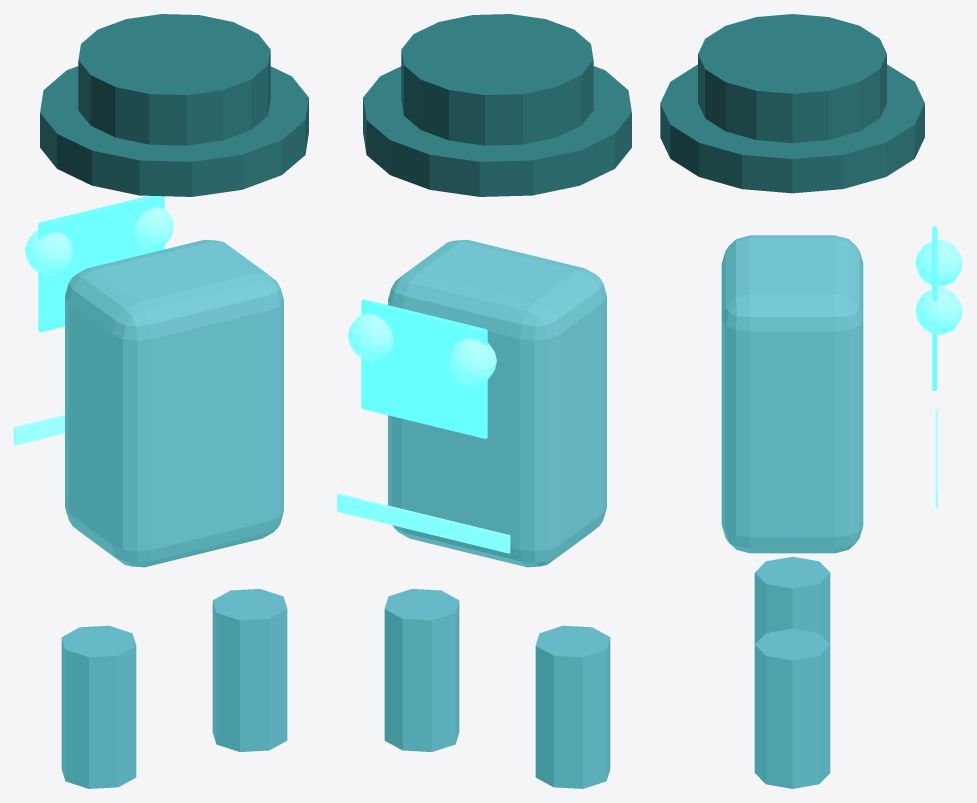
The model's file is gpt_classic.glb.
3 views of the same model, side by side, from view 1: azimuth 30°, elevation 25°; view 2: azimuth 150°, elevation 25°; view 3: azimuth 270°, elevation 25° (orthographic). The views are drawn at different scales.
Parts seen in each view (by area): view 1: gpt_classic; view 2: gpt_classic; view 3: gpt_classic.
Boxes of the visible parts, box(x1,y1,x2,y2) form: gpt_classic: box(14, 14, 308, 788); gpt_classic: box(337, 14, 631, 788); gpt_classic: box(660, 14, 962, 788).
Bounding box in the file's own units: 0.56 × 1.6 × 0.64.
